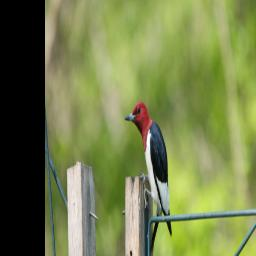Woodpecker: (124, 101, 172, 237)
